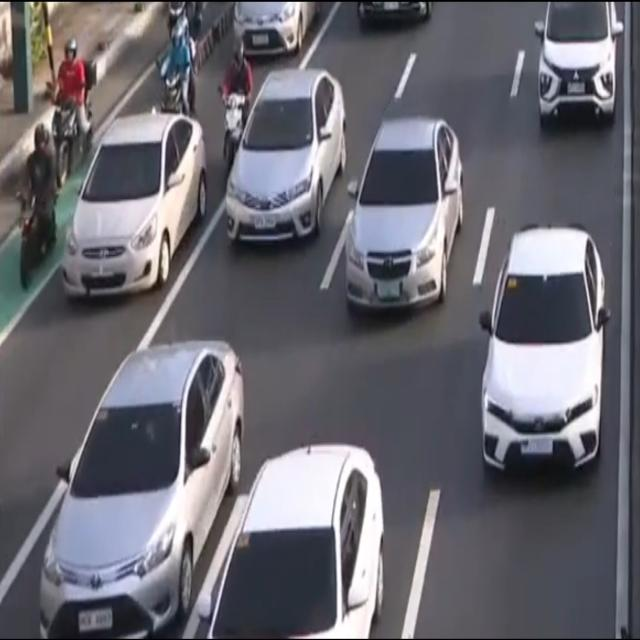Motorcycle: (15, 117, 59, 282), (51, 22, 94, 190), (216, 35, 255, 178), (155, 14, 199, 121)
SUV: (470, 213, 612, 498), (532, 0, 629, 140)
Sedan: (27, 332, 248, 640), (196, 430, 392, 640), (57, 105, 208, 302), (343, 115, 465, 319), (225, 68, 346, 252), (229, 0, 323, 66)
